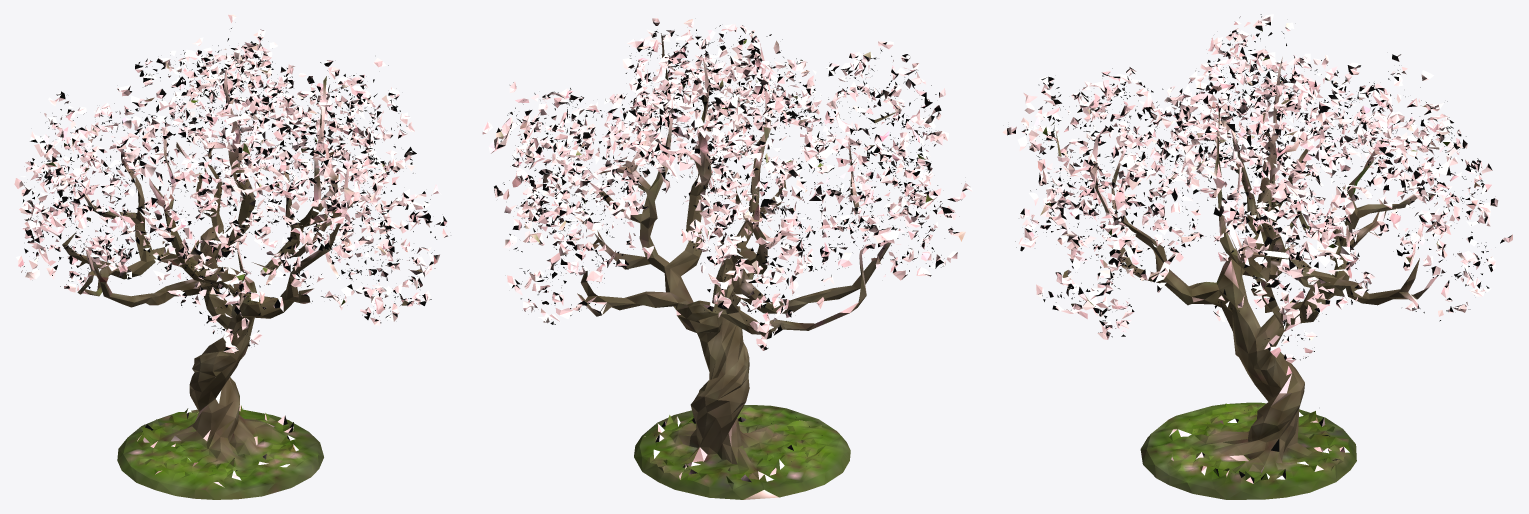
File: Petal_Cascade.fbx
3 views of the same model, side by side, from view 1: azimuth 30°, elevation 25°; view 2: azimuth 150°, elevation 25°; view 3: azimuth 270°, elevation 25° (orthographic). The views are drawn at different scales.
Visible parts, largest first — view 1: Petal_Cascade_LOD0; view 2: Petal_Cascade_LOD0; view 3: Petal_Cascade_LOD0.
Part boxes in pixels (left/top/right/bottom): Petal_Cascade_LOD0: left=14, top=14, right=447, bottom=499; Petal_Cascade_LOD0: left=482, top=18, right=972, bottom=499; Petal_Cascade_LOD0: left=1002, top=14, right=1512, bottom=499.
Size of what is drawn, in the model's own units: 1.88 by 1.81 by 1.87.
Materials: 1 (1 with a texture image).
